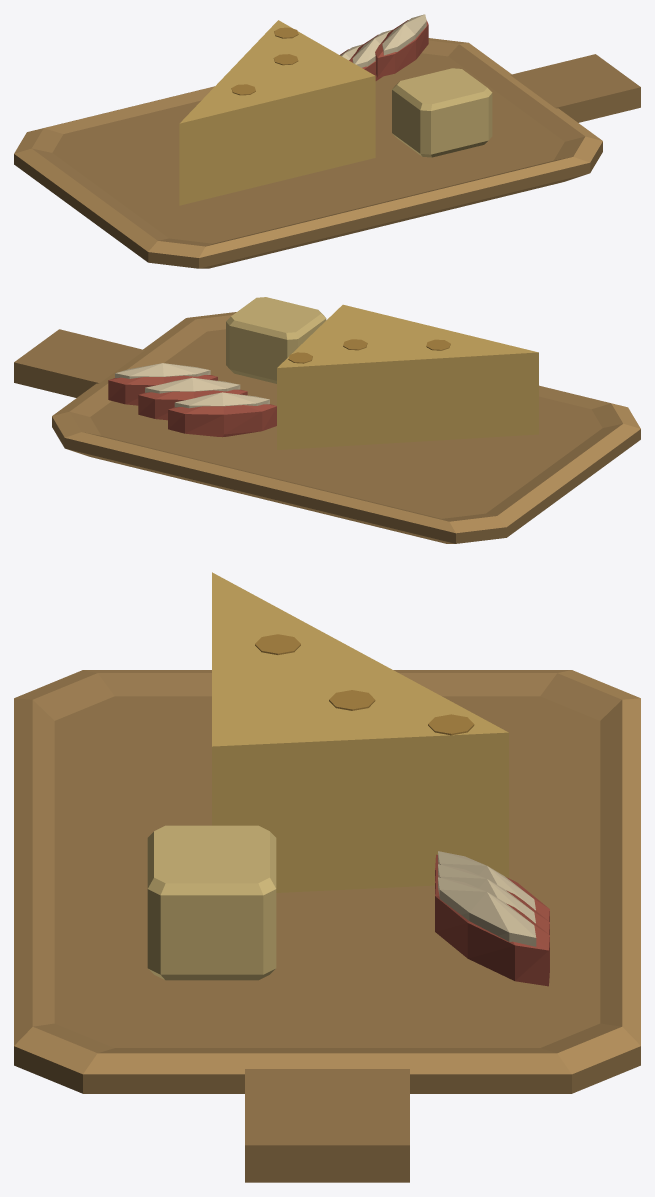
File: platter_cheese.glb
3 renders of one model, top to bottom at view 1: azimuth 30°, elevation 25°; view 2: azimuth 150°, elevation 25°; view 3: azimuth 270°, elevation 25°, orthographic. The views are drawn at different scales.
Visible parts, largest first — view 1: food; view 2: food; view 3: food.
Boxes of the visible parts, box(x1,y1,x2,y2) form: food: box(14, 14, 640, 268); food: box(14, 297, 640, 543); food: box(14, 572, 640, 1182).
Size of the model in its own units: 0.685 by 0.131 by 0.38.
